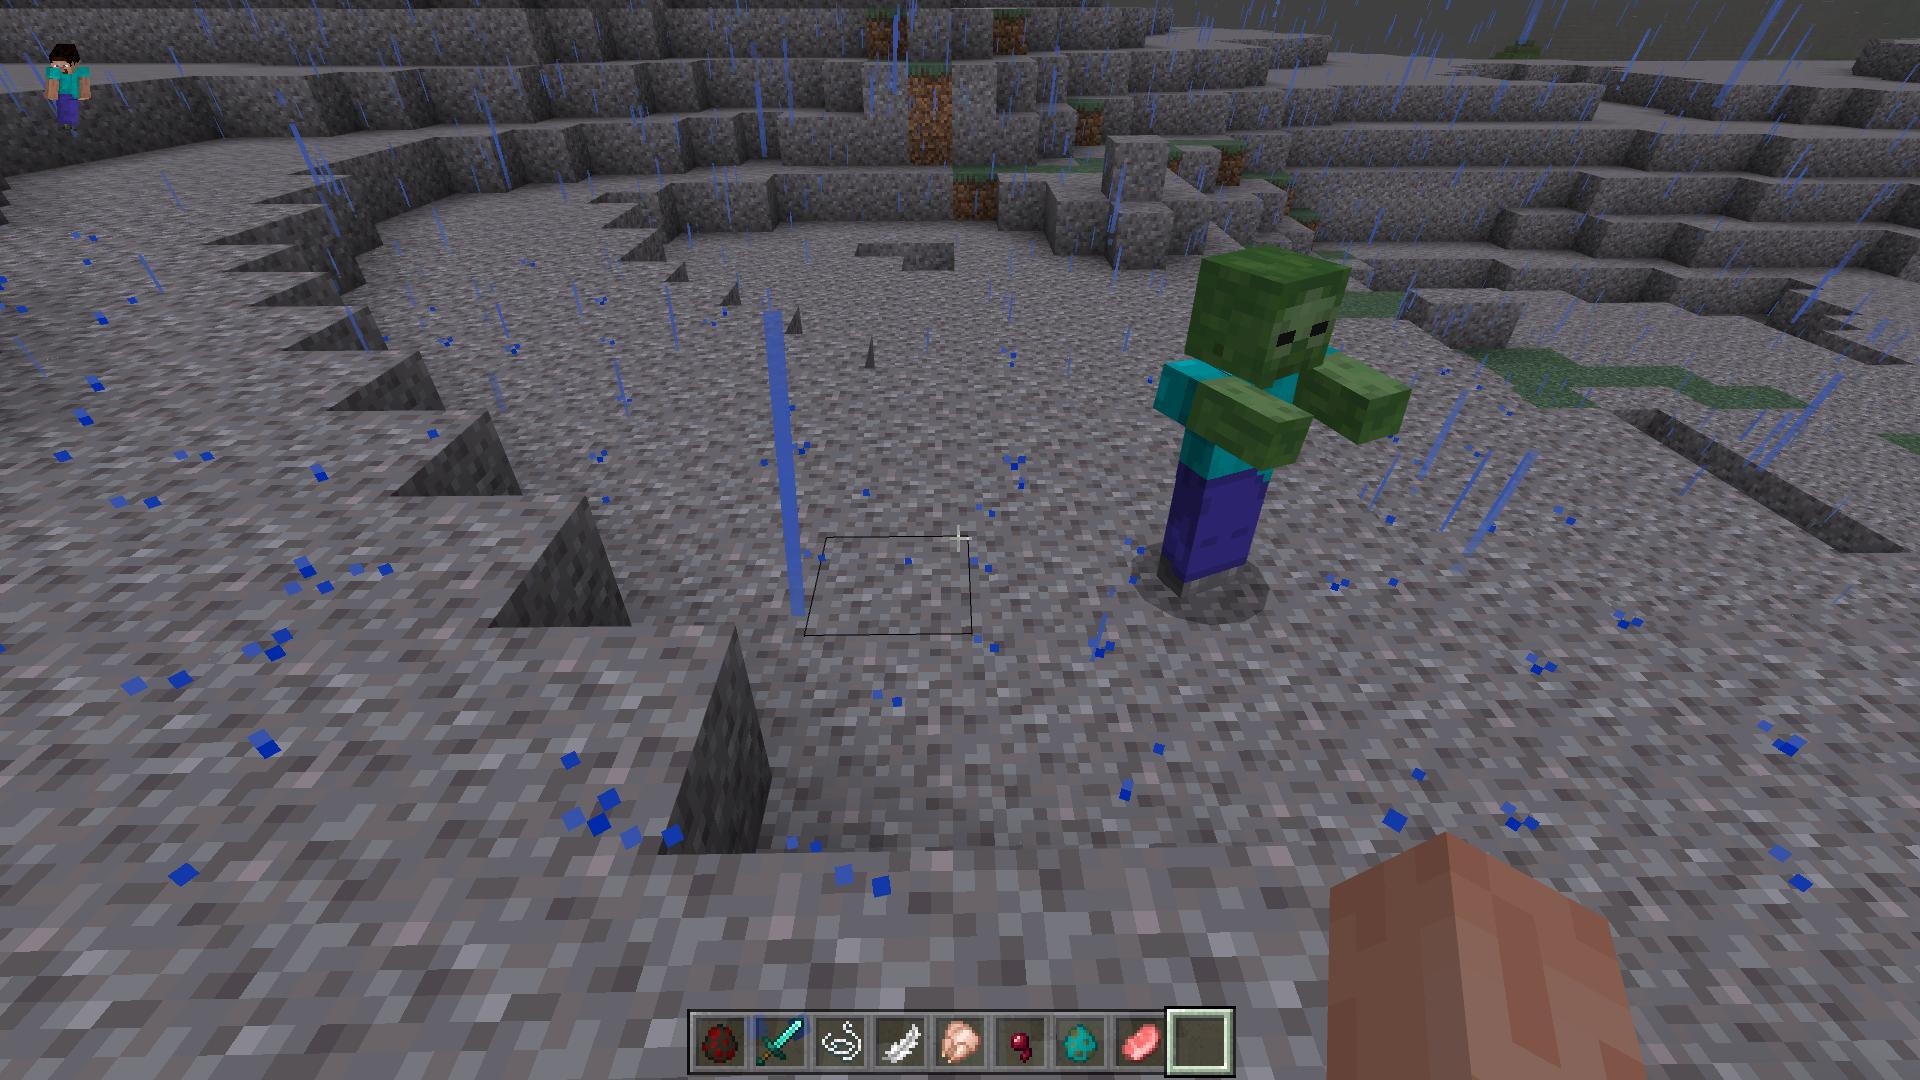zombie: (1154, 247, 1415, 596)
